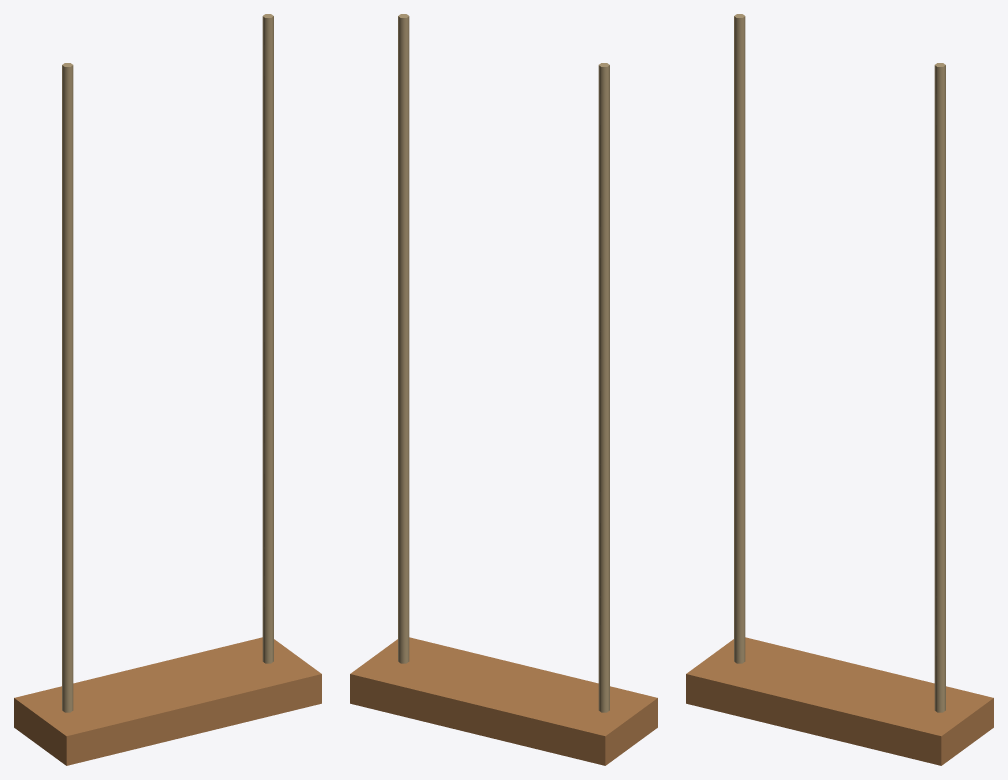
File: rope_swing.glb
The picture shows the model from 3 angles, left to right: view 1: azimuth 30°, elevation 25°; view 2: azimuth 150°, elevation 25°; view 3: azimuth 330°, elevation 25°; orthographic projection.
Parts seen in each view (by area): view 1: Seat, Rope, _MeshInstance3D_182; view 2: Seat, Rope, _MeshInstance3D_182; view 3: Seat, Rope, _MeshInstance3D_182.
Part boxes in pixels (box(x1,y1,x2,y2)): Seat: box(14, 637, 321, 765); Rope: box(62, 63, 73, 712); _MeshInstance3D_182: box(262, 14, 273, 663); Seat: box(350, 637, 657, 765); Rope: box(598, 63, 609, 712); _MeshInstance3D_182: box(398, 14, 409, 663); Seat: box(686, 637, 993, 765); Rope: box(734, 14, 745, 663); _MeshInstance3D_182: box(934, 63, 945, 712).
Bounding box in the file's own units: 1.35 × 3.41 × 0.48.
